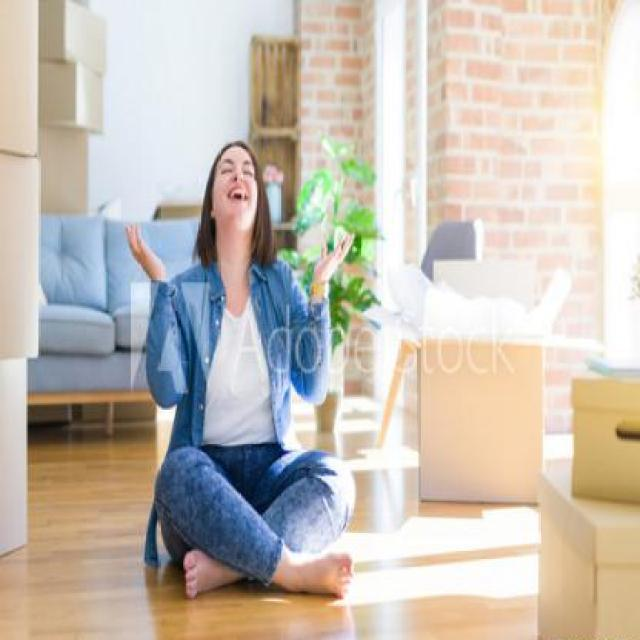box: (382, 250, 552, 513), (520, 455, 638, 640), (568, 376, 640, 517)
